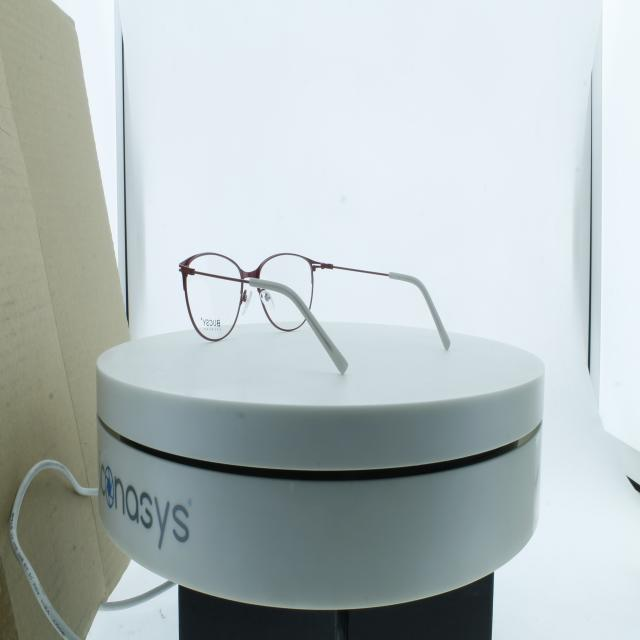Specs: (166, 227, 468, 393)
